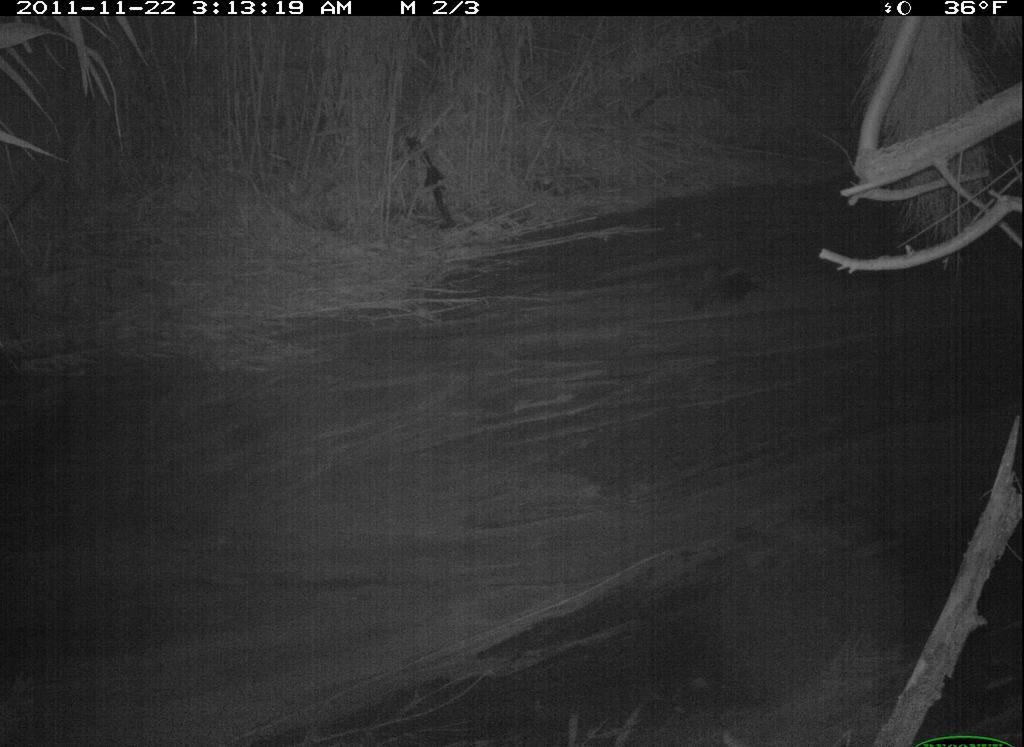skunk: (671, 250, 771, 323)
